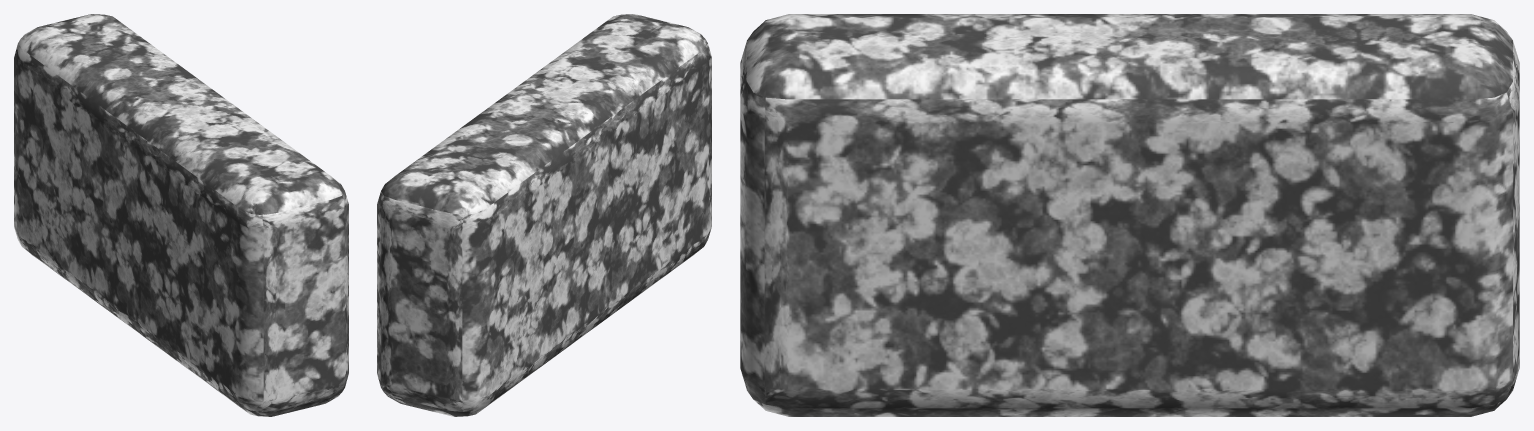
Rendered from bush.fbx.
3 views of the same model, side by side, from view 1: azimuth 30°, elevation 25°; view 2: azimuth 150°, elevation 25°; view 3: azimuth 270°, elevation 25° (orthographic). The views are drawn at different scales.
Visible parts, largest first — view 1: Cube; view 2: Cube; view 3: Cube.
Boxes of the visible parts, box(x1,y1,x2,y2) form: Cube: box(14, 14, 348, 416); Cube: box(377, 14, 711, 416); Cube: box(740, 14, 1519, 416).
Bounding box in the file's own units: 100 × 200 × 400.
1 material, 1 textured.
